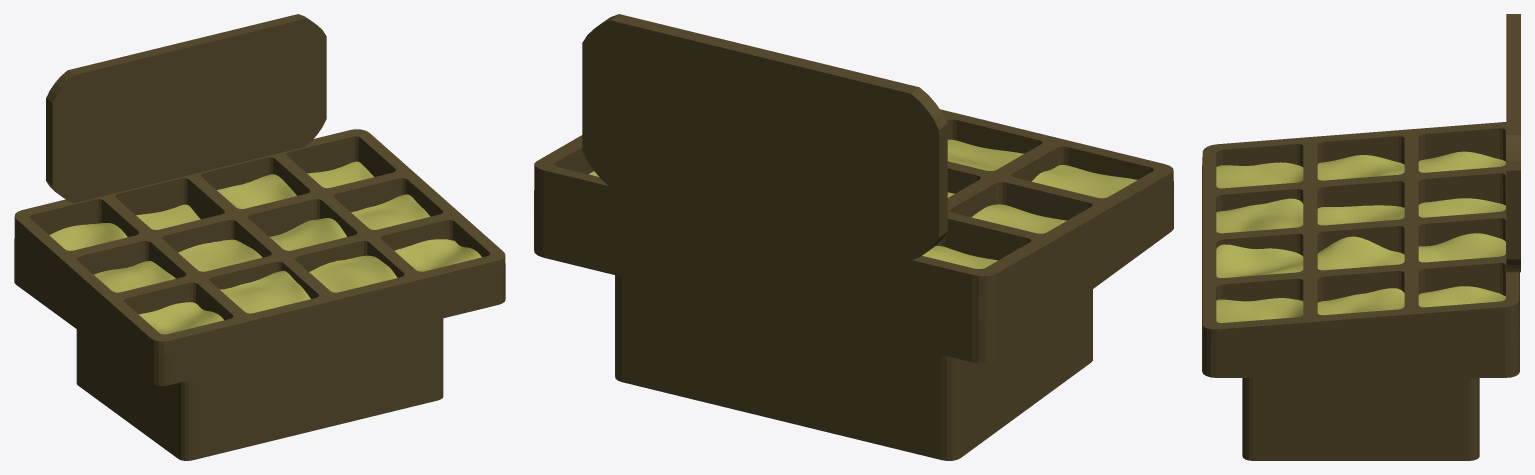
File: tavuk_tezgahi_2.fbx
3 views of the same model, side by side, from view 1: azimuth 30°, elevation 25°; view 2: azimuth 150°, elevation 25°; view 3: azimuth 270°, elevation 25° (orthographic). The views are drawn at different scales.
Visible parts, largest first — view 1: Plane.003, Cube.003, Plane.006, Plane; view 2: Plane.003, Cube.003, Plane.006, Plane; view 3: Plane.003, Plane, Plane.006, Cube.003.
Boxes of the visible parts, x1,y1,x2,y2 form: Plane.003: (14, 129, 505, 385); Cube.003: (46, 14, 326, 202); Plane.006: (76, 318, 443, 460); Plane: (49, 161, 481, 334); Plane.003: (534, 109, 1173, 363); Cube.003: (582, 14, 947, 260); Plane.006: (615, 275, 1092, 460); Plane: (589, 139, 1137, 268); Plane.003: (1202, 122, 1519, 377); Plane: (1216, 151, 1505, 322); Plane.006: (1242, 378, 1479, 460); Cube.003: (1506, 14, 1520, 272).
Size of the model in its own units: 253 by 201 by 184.
